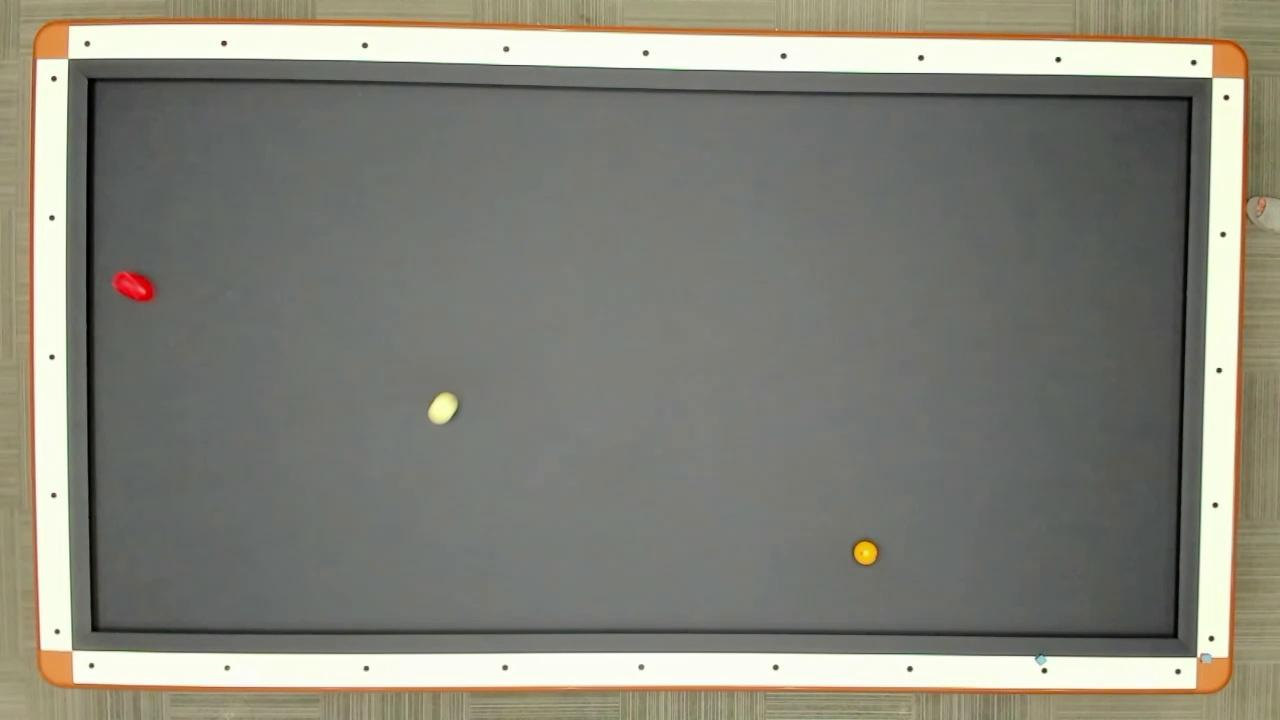Red: (110, 267, 159, 304)
White: (424, 389, 462, 427)
Yellow: (851, 538, 880, 567)
